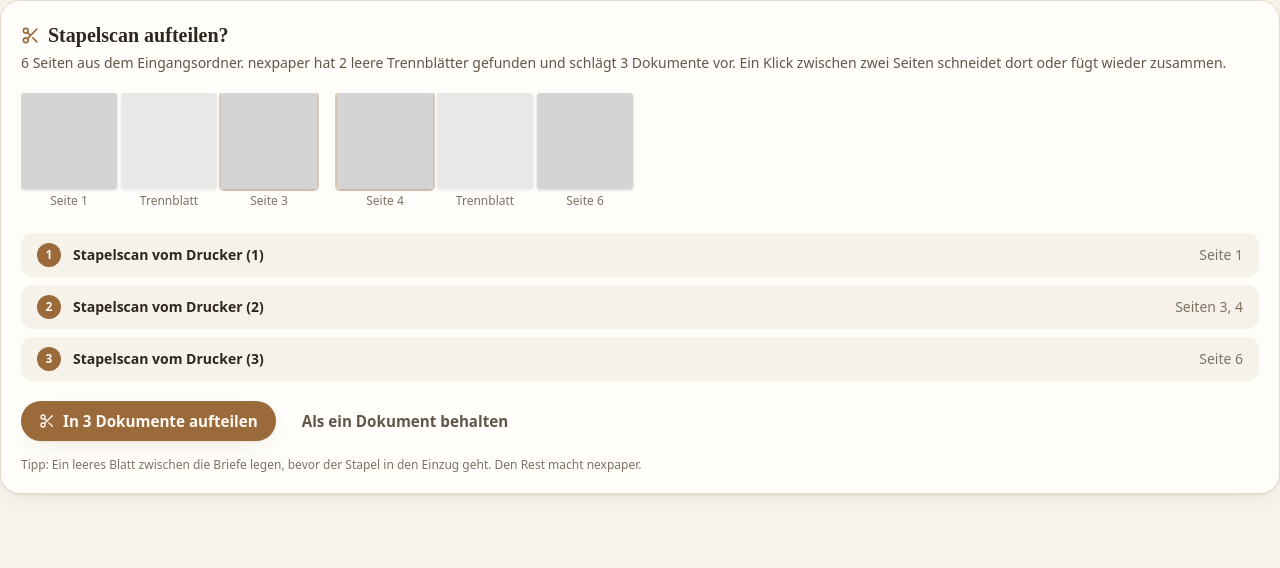
Test: splitting a batch scan › cuts between two pages and joins them again
The image size is (1280, 568).
Click the button named "Hier schneiden".
click(327, 137)  # box [321, 105, 333, 169]
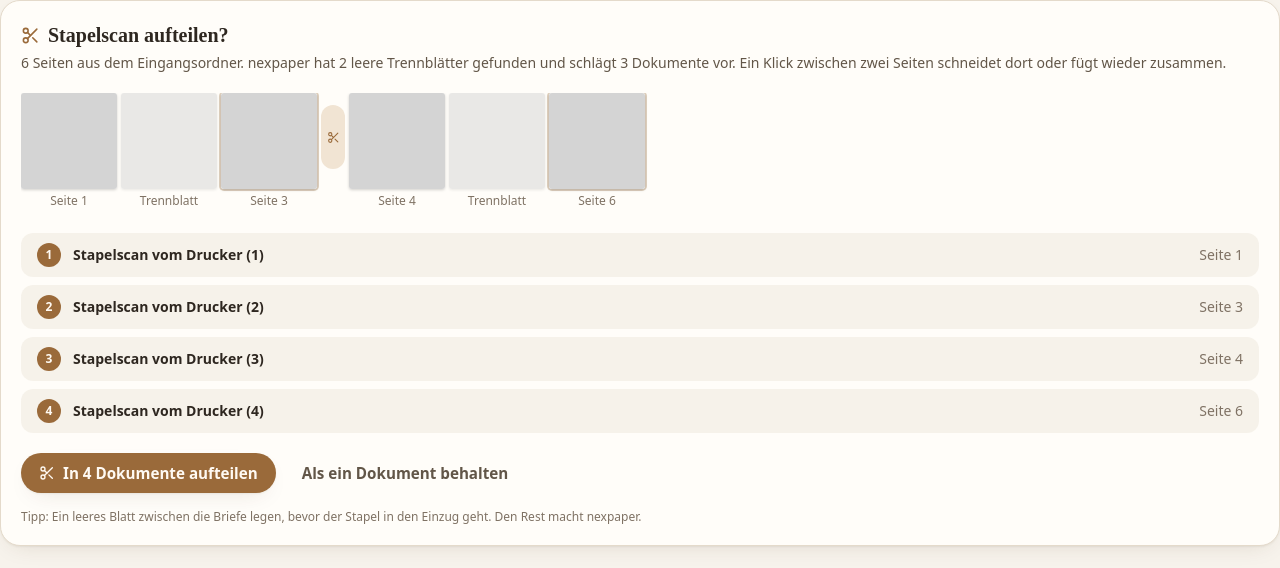
Expected: the number of list items is 4, [21, 233, 1259, 277]; [21, 285, 1259, 329]; [21, 337, 1259, 381]; [21, 389, 1259, 433]
Expected: the list item "2 Stapelscan vom Drucker (2) Seite 3" is shown, [21, 285, 1259, 329]
Click the button named "Wieder zusammenfügen".
click(333, 137)  # box [321, 105, 345, 169]
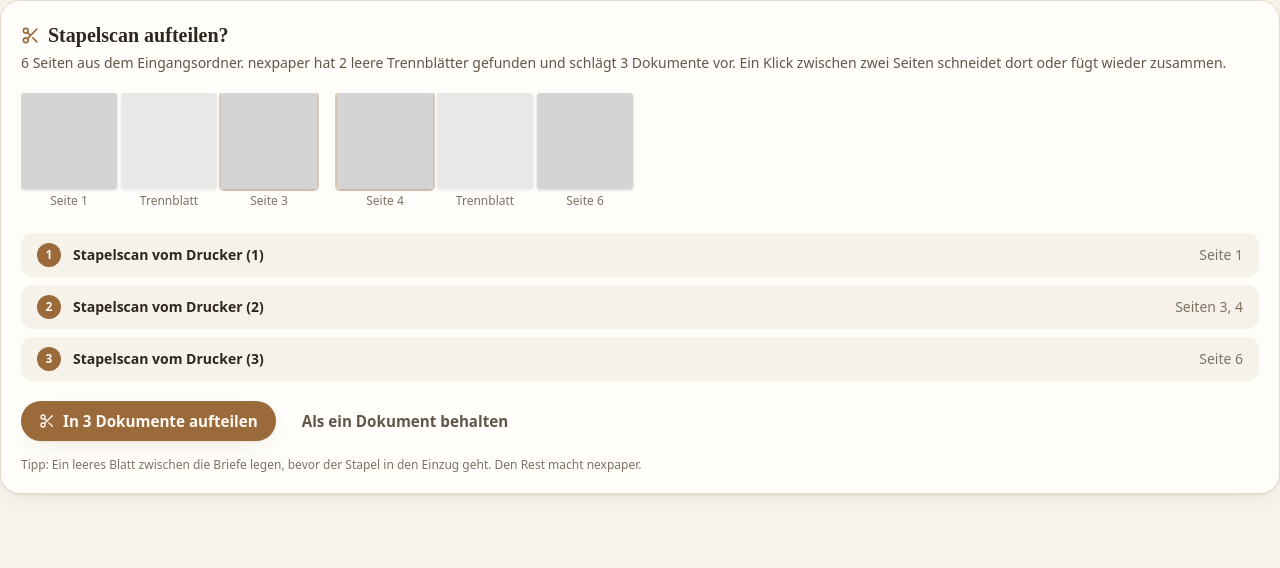
Expected: the number of list items is 3, [21, 233, 1259, 277]; [21, 285, 1259, 329]; [21, 337, 1259, 381]
